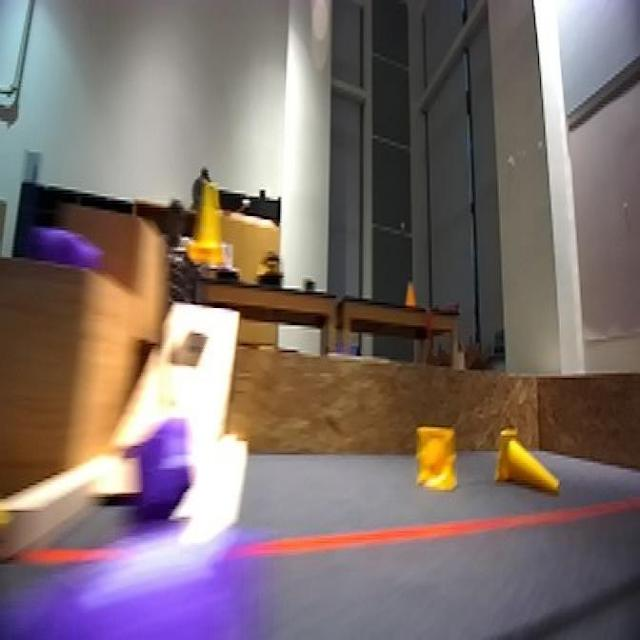frc_cone: (494, 416, 570, 506), (188, 179, 232, 272), (414, 424, 457, 488)
frc_cube: (8, 510, 254, 640), (124, 404, 190, 542), (31, 218, 99, 282)
